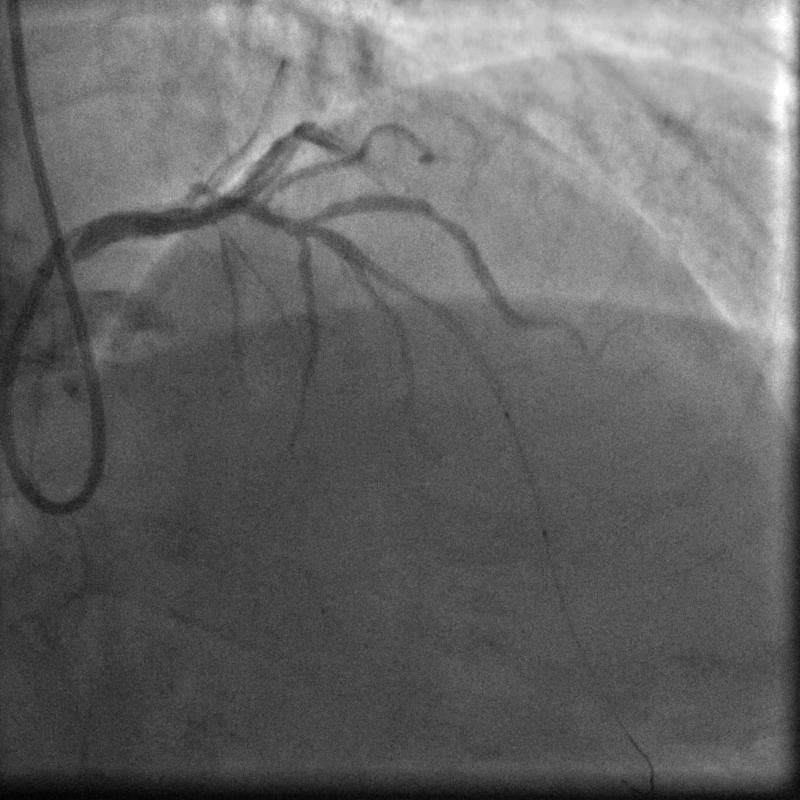Stenosis: (417, 191, 466, 236)
